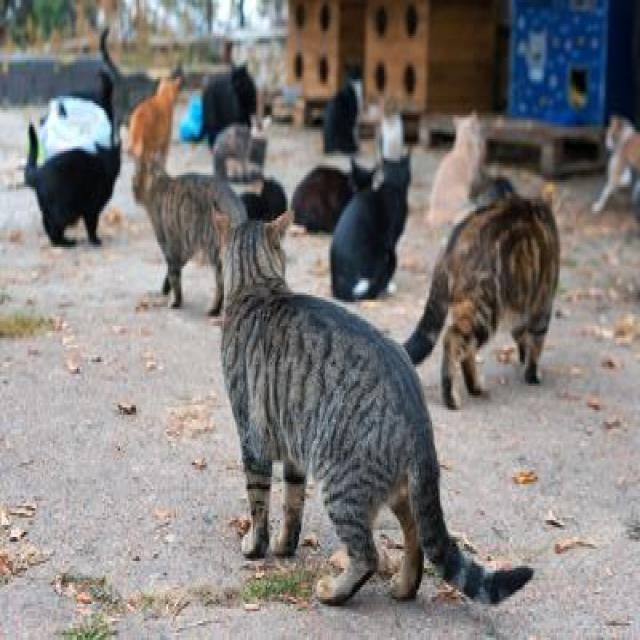cat: (215, 212, 532, 604), (405, 174, 560, 408), (25, 30, 121, 246), (132, 163, 248, 314), (25, 125, 121, 245), (331, 157, 408, 301), (426, 112, 485, 226), (295, 161, 374, 231), (592, 116, 640, 216), (129, 77, 182, 166), (39, 99, 111, 162), (204, 66, 256, 145), (216, 124, 266, 181), (324, 84, 358, 154), (241, 180, 288, 222), (376, 114, 405, 160)
